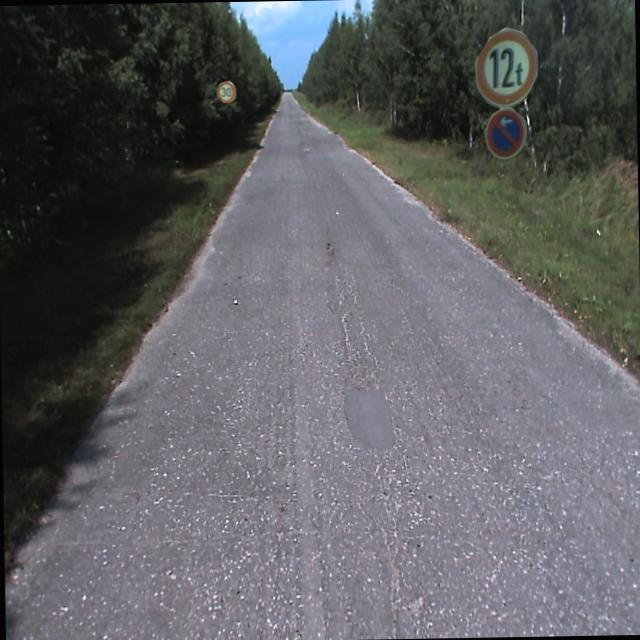road: (4, 94, 640, 640)
